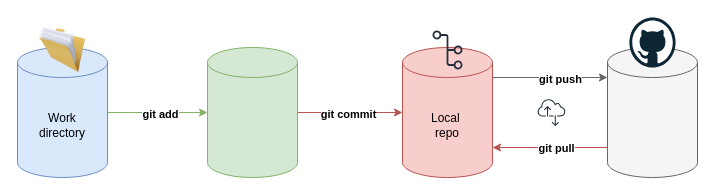
Image size: 715x195. Some labels were removed from this diagram. Here are the shapes that lost their labels. From the top down, the centre of each, then its label:
At point (252, 112): "Staging area".
At point (652, 112): "Remote repo".
